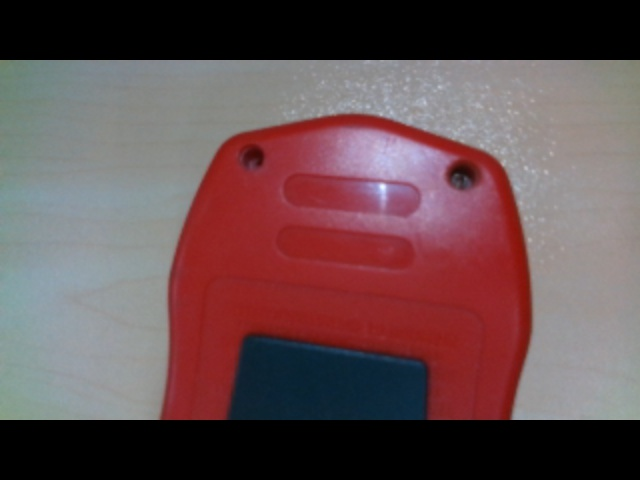Screw holes: (443, 155, 482, 193), (237, 142, 266, 172)
